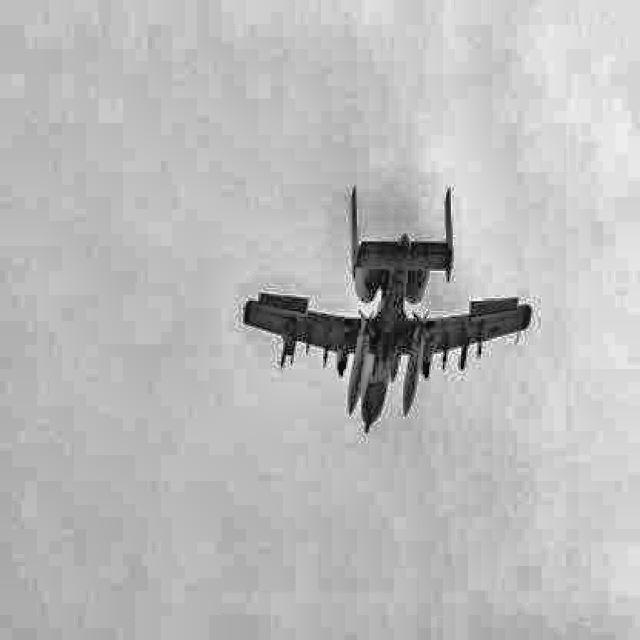A10: (243, 183, 532, 434)
